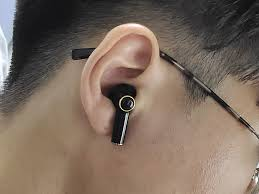earphone: (80, 23, 160, 146)
